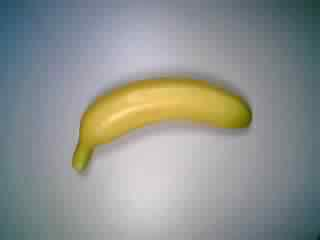banana: (69, 72, 258, 176)
